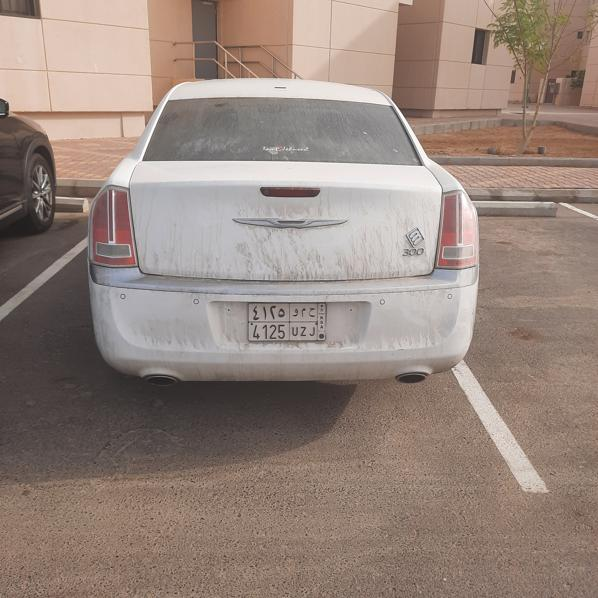numberplate: (247, 302, 327, 341)
